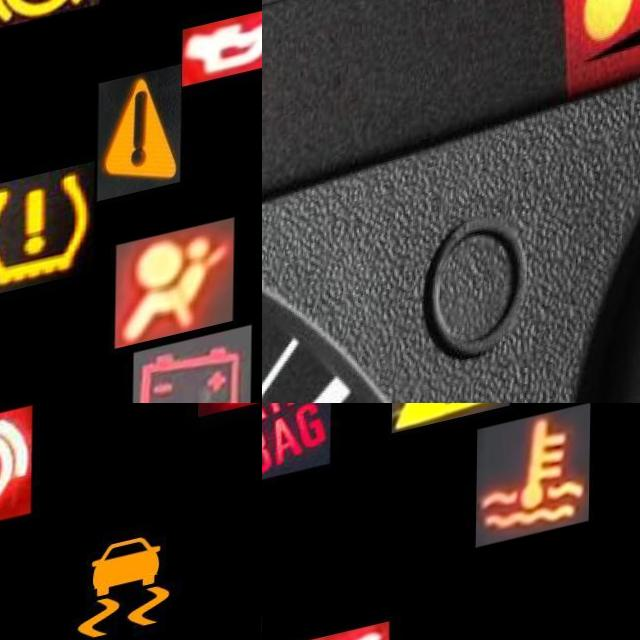Central Warning lamp: (98, 86, 183, 219), (392, 403, 511, 442)
Engine cooling system: (477, 421, 592, 560)
